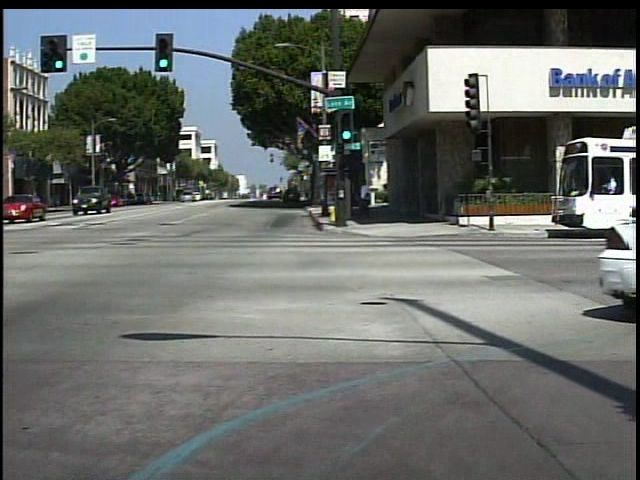person: (357, 178, 376, 224)
